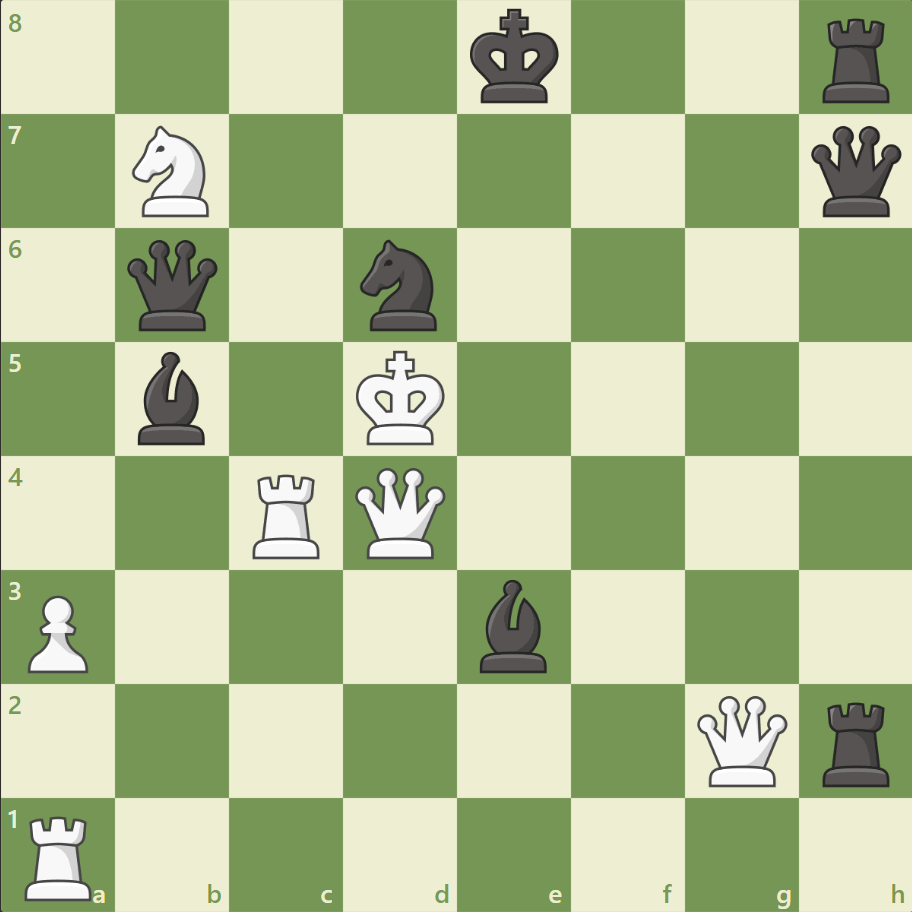K: (351, 344, 451, 452)
N: (124, 121, 222, 223)
P: (20, 586, 95, 677)
Q: (351, 463, 450, 562), (691, 690, 790, 789)
R: (19, 806, 102, 904), (246, 466, 329, 563)
b: (131, 347, 215, 449), (471, 574, 555, 676)
k: (465, 4, 565, 112)
n: (351, 234, 449, 337)
q: (805, 122, 904, 222), (124, 236, 223, 335)
r: (814, 12, 897, 109), (814, 693, 897, 790)
